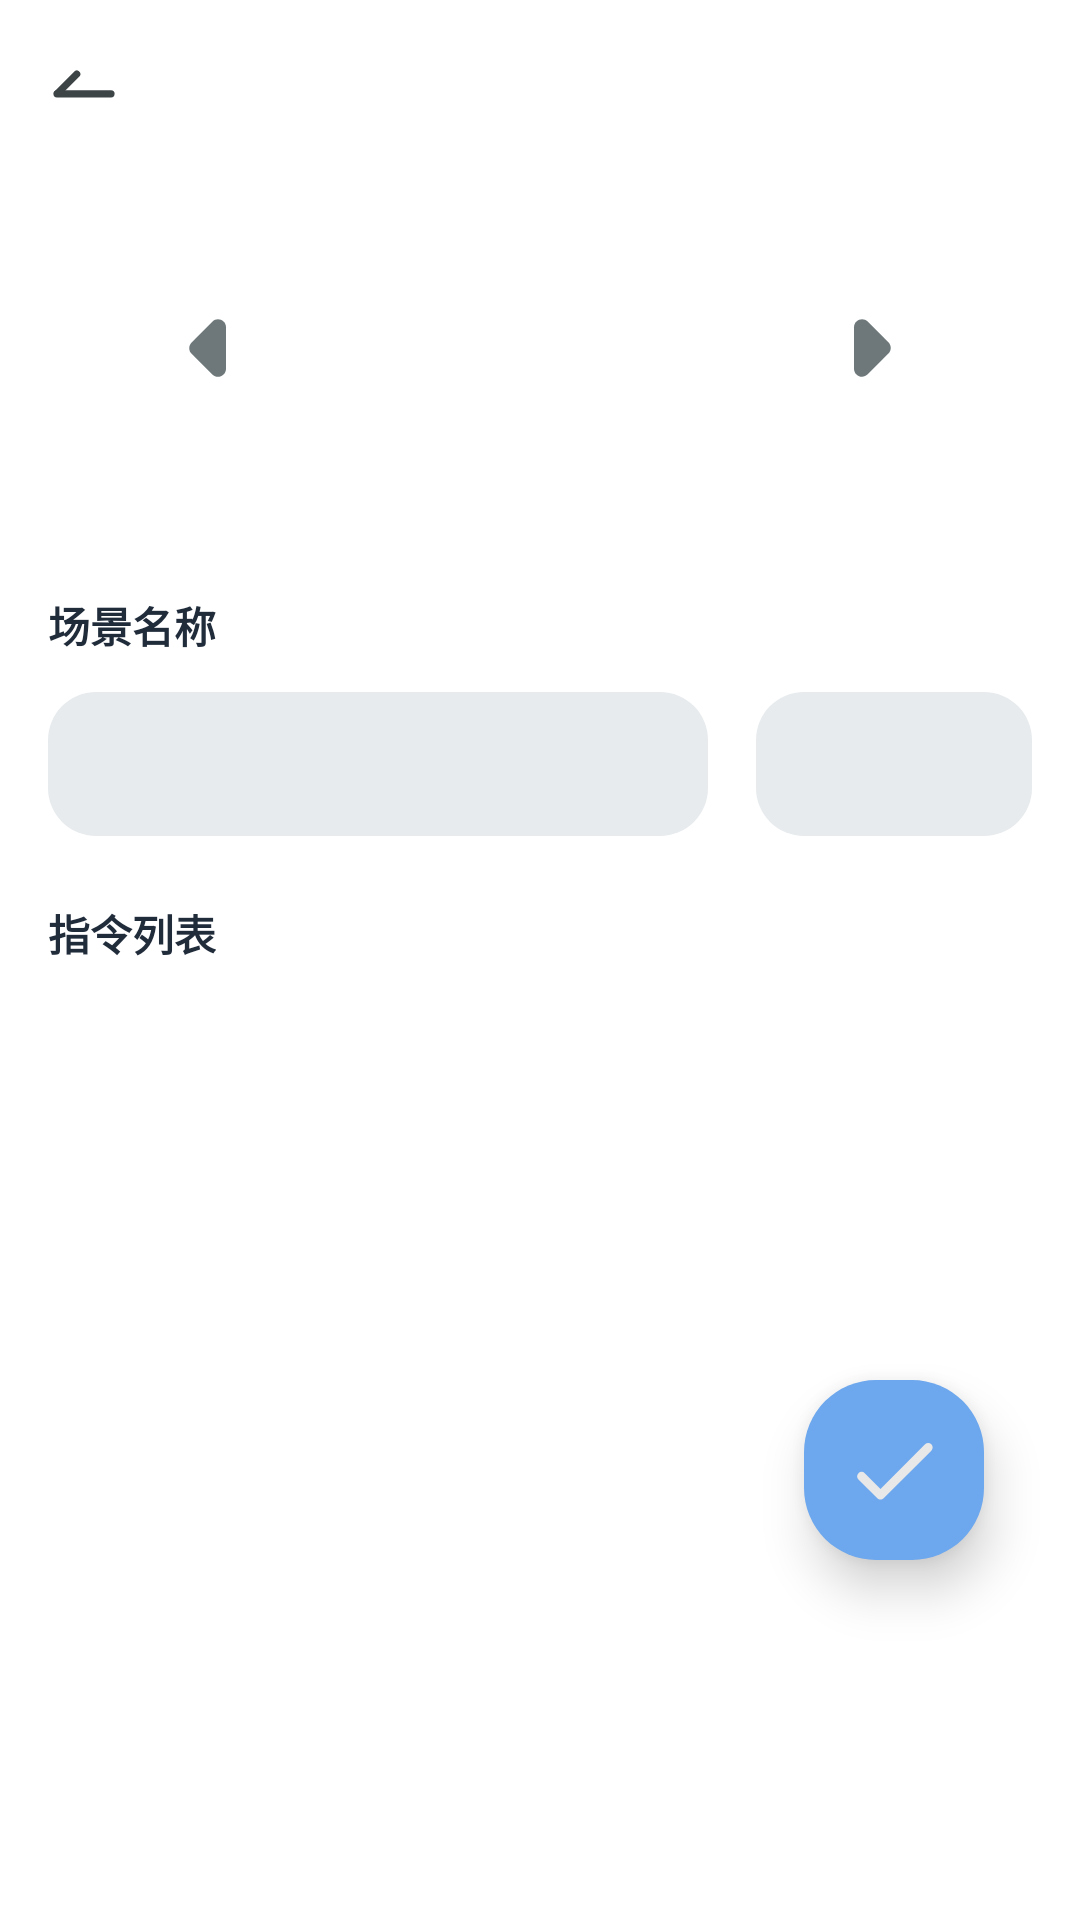

Icons on this 1080px x 1920px Android screen, each with its box as bbox=[x1, y1, x2, y2]:
next: bbox=[854, 319, 891, 377]
pre: bbox=[189, 319, 226, 377]
确定: bbox=[804, 1380, 984, 1560]
